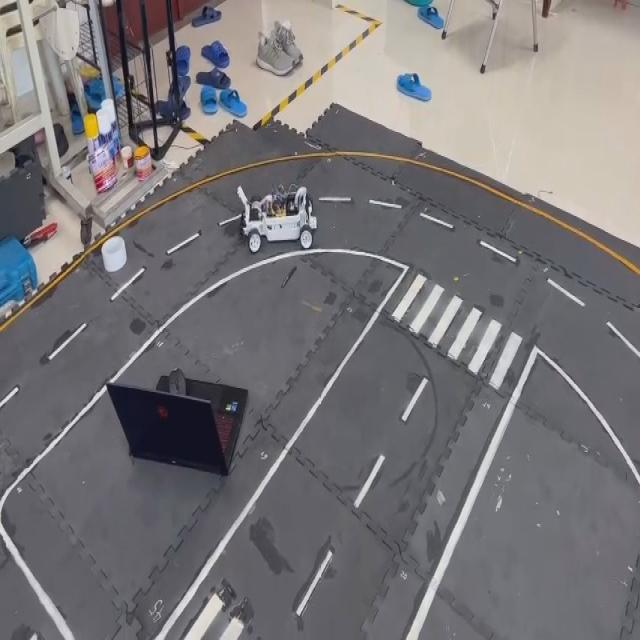SiCo-CAR: (236, 180, 317, 253)
